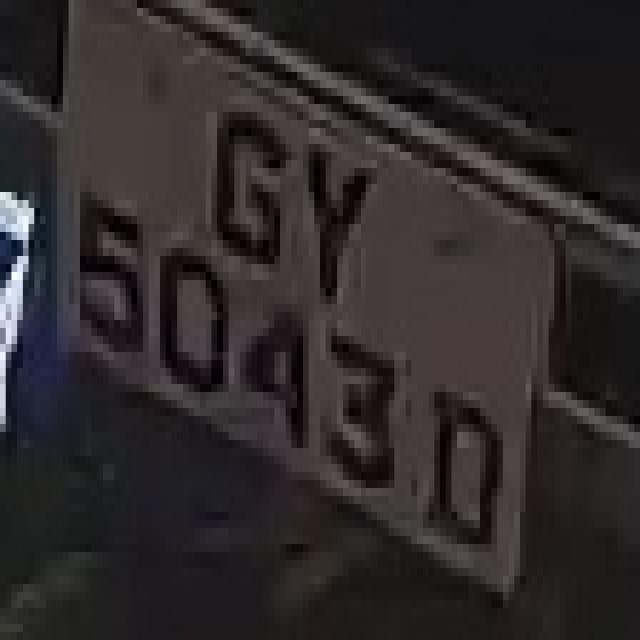0: (149, 208, 240, 416)
3: (309, 280, 417, 520)
4: (229, 256, 320, 488)
5: (57, 160, 149, 384)
D: (412, 360, 514, 576)
G: (200, 88, 291, 296)
Y: (292, 104, 372, 328)
